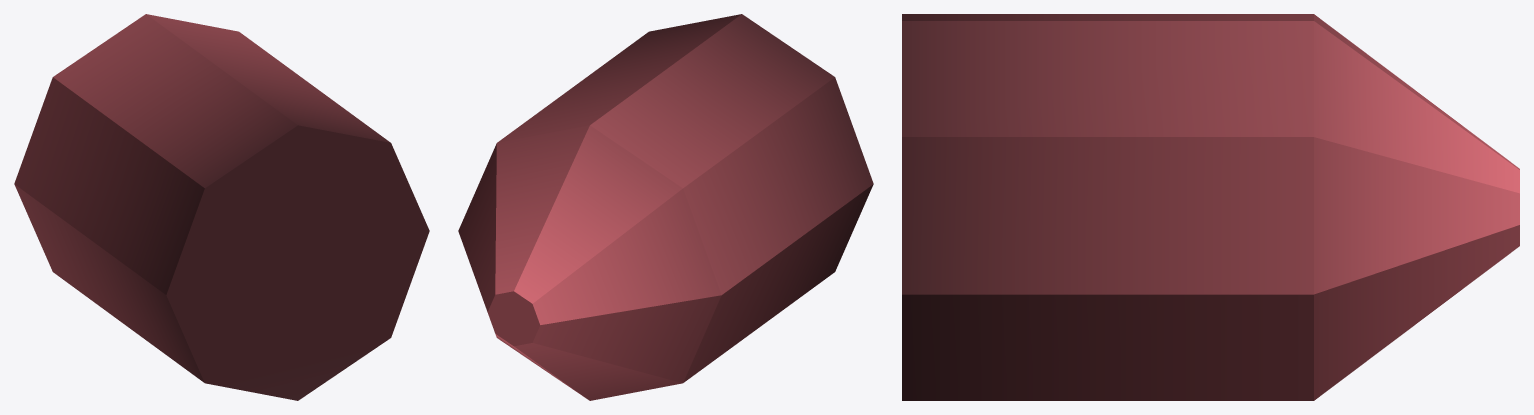
The model's file is bullet.glb.
3 views of the same model, side by side, from view 1: azimuth 30°, elevation 25°; view 2: azimuth 150°, elevation 25°; view 3: azimuth 270°, elevation 25° (orthographic). The views are drawn at different scales.
Visible parts, largest first — view 1: Cylinder; view 2: Cylinder; view 3: Cylinder.
Part boxes in pixels (box(x1,y1,x2,y2)): Cylinder: box(14, 14, 429, 400); Cylinder: box(458, 14, 873, 400); Cylinder: box(902, 14, 1519, 400).
Bounding box in the file's own units: 0.1 × 0.1 × 0.15.
